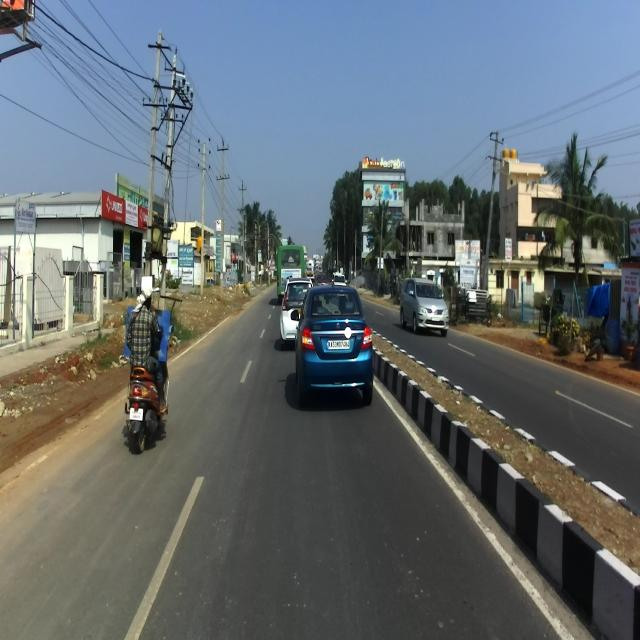Car_Mahindra: (279, 275, 315, 351)
Car_Maruti-Suzuki: (290, 284, 373, 408)
Car_Toyota: (400, 276, 450, 337)
scooter: (124, 322, 174, 454)
